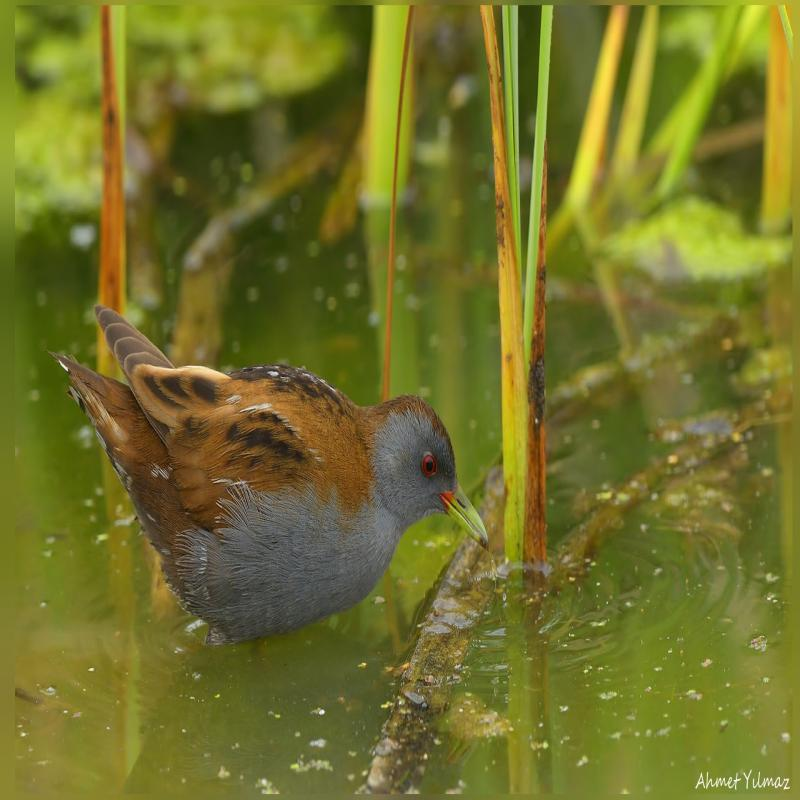little crake: (44, 300, 498, 661)
